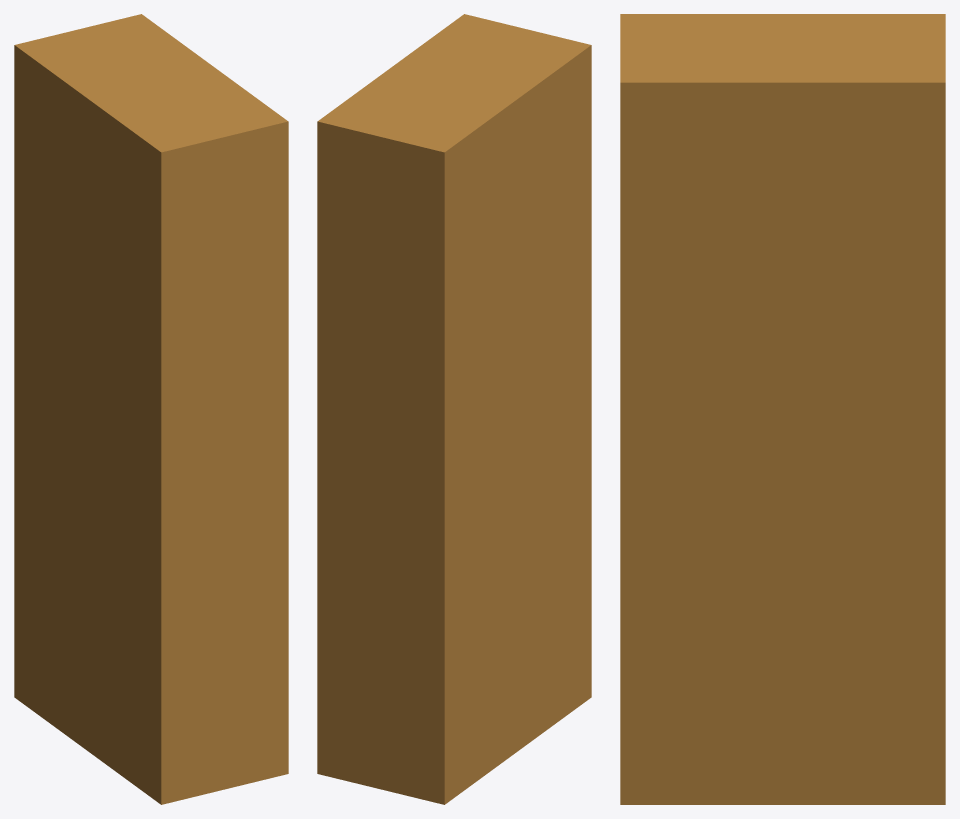
The picture shows the model from 3 angles, left to right: view 1: azimuth 30°, elevation 25°; view 2: azimuth 150°, elevation 25°; view 3: azimuth 270°, elevation 25°; orthographic projection. The views are drawn at different scales.
Parts seen in each view (by area): view 1: L1-3-S18-32F-P2-M04; view 2: L1-3-S18-32F-P2-M04; view 3: L1-3-S18-32F-P2-M04.
Boxes of the visible parts, x1,y1,x2,y2 form: L1-3-S18-32F-P2-M04: [14, 14, 288, 804]; L1-3-S18-32F-P2-M04: [317, 14, 591, 804]; L1-3-S18-32F-P2-M04: [620, 14, 945, 804].
Size of the model in its own units: 0.045 by 0.2206 by 0.09.
